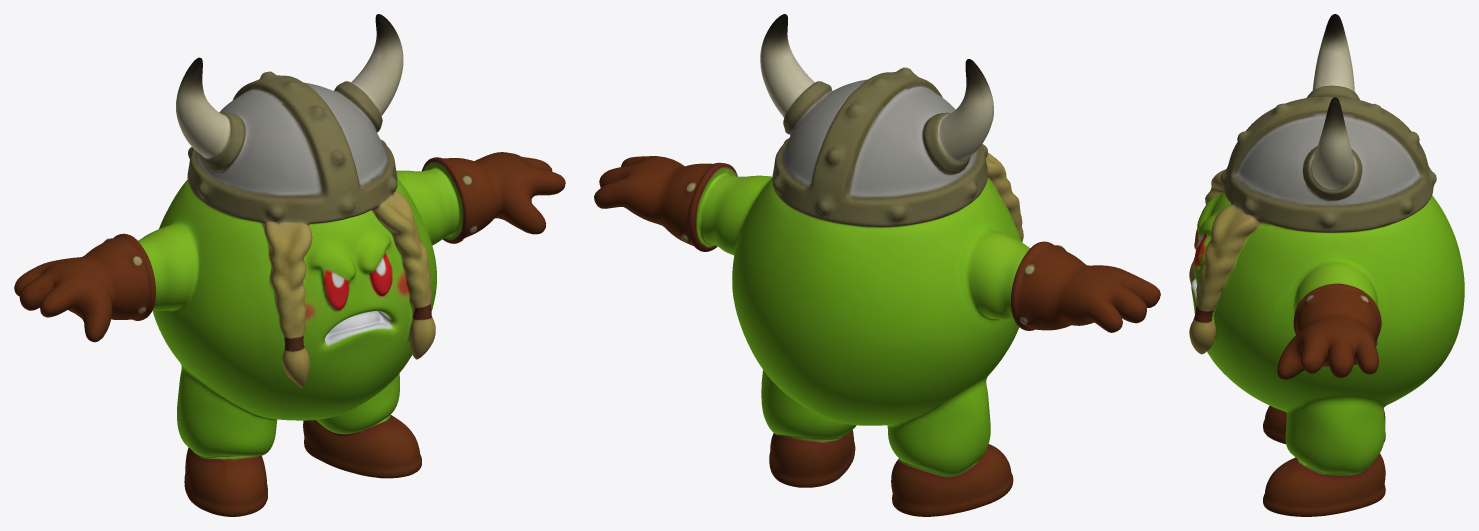
File: ibiriki-tripo-tpose.glb
3 views of the same model, side by side, from view 1: azimuth 30°, elevation 25°; view 2: azimuth 150°, elevation 25°; view 3: azimuth 270°, elevation 25° (orthographic). The views are drawn at different scales.
Parts seen in each view (by area): view 1: tripo_node_7fb75247; view 2: tripo_node_7fb75247; view 3: tripo_node_7fb75247.
Boxes of the visible parts, x1,y1,x2,y2 form: tripo_node_7fb75247: (14, 14, 565, 516); tripo_node_7fb75247: (594, 14, 1160, 516); tripo_node_7fb75247: (1189, 14, 1464, 516).
Bounding box in the file's own units: 98.04 × 76.58 × 46.48.
Materials: 1 (1 with a texture image).
